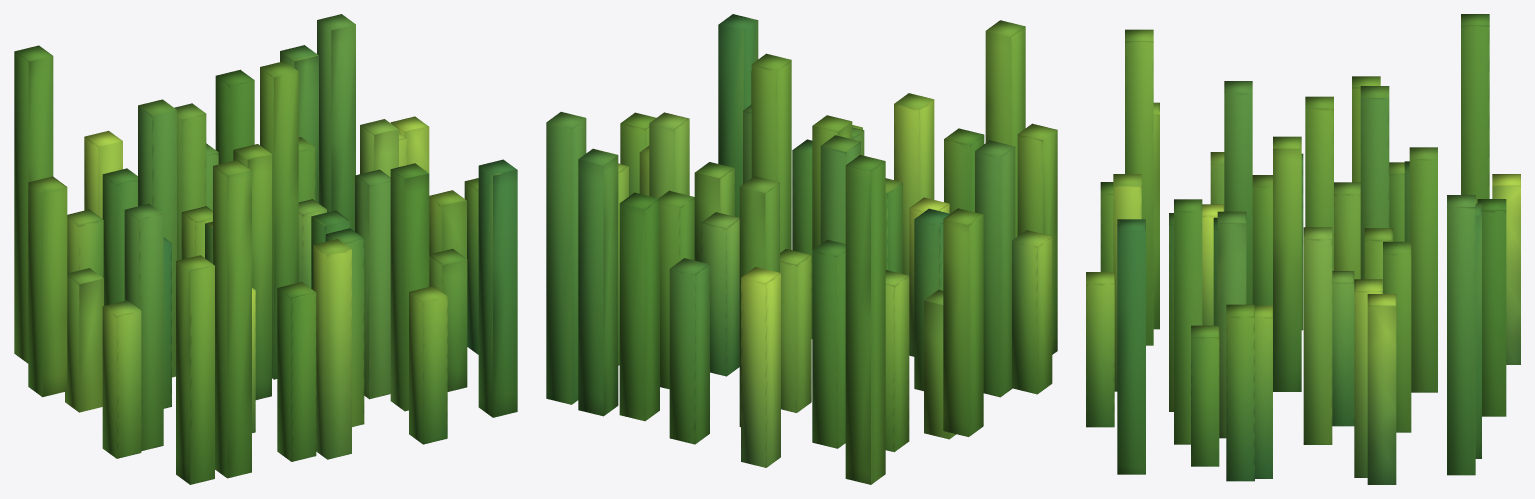
The model's file is grass_cubic.glb.
The picture shows the model from 3 angles, left to right: view 1: azimuth 30°, elevation 25°; view 2: azimuth 150°, elevation 25°; view 3: azimuth 270°, elevation 25°; orthographic projection. The views are drawn at different scales.
Parts seen in each view (by area): view 1: Object_3; view 2: Object_3; view 3: Object_3.
Boxes of the visible parts, x1,y1,x2,y2 form: Object_3: [14, 14, 517, 484]; Object_3: [546, 14, 1057, 484]; Object_3: [1086, 14, 1520, 484].
Bounding box in the file's own units: 1.62 × 1.17 × 1.52.
1 material, 1 textured.
